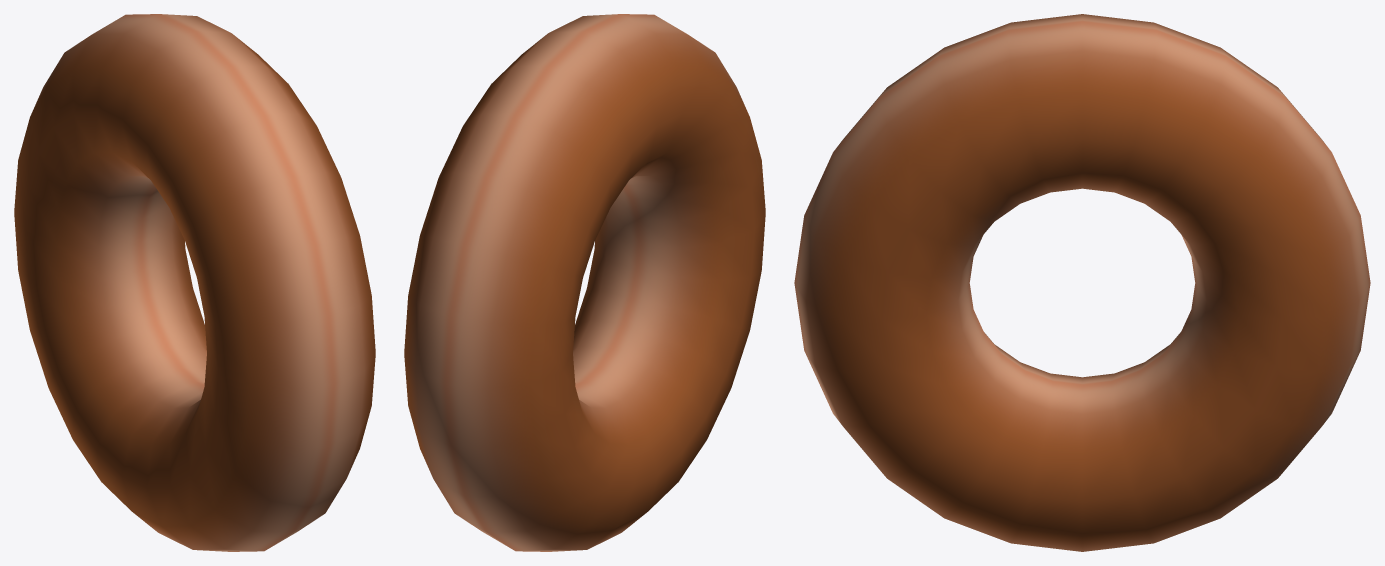
The model's file is Dounat_whole.fbx.
3 renders of one model, left to right at view 1: azimuth 30°, elevation 25°; view 2: azimuth 150°, elevation 25°; view 3: azimuth 270°, elevation 25°, orthographic. The views are drawn at different scales.
Visible parts, largest first — view 1: Dounat_whole; view 2: Dounat_whole; view 3: Dounat_whole.
Part boxes in pixels (bbox=[...]): Dounat_whole: bbox=[14, 14, 375, 551]; Dounat_whole: bbox=[404, 14, 765, 551]; Dounat_whole: bbox=[794, 14, 1370, 551].
Size of the model in its own units: 207 by 680 by 680.
